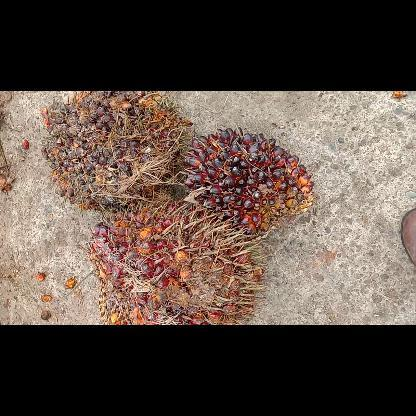Kurang masak: (40, 91, 186, 207), (185, 127, 315, 235)
TBS masak: (90, 200, 264, 324)
